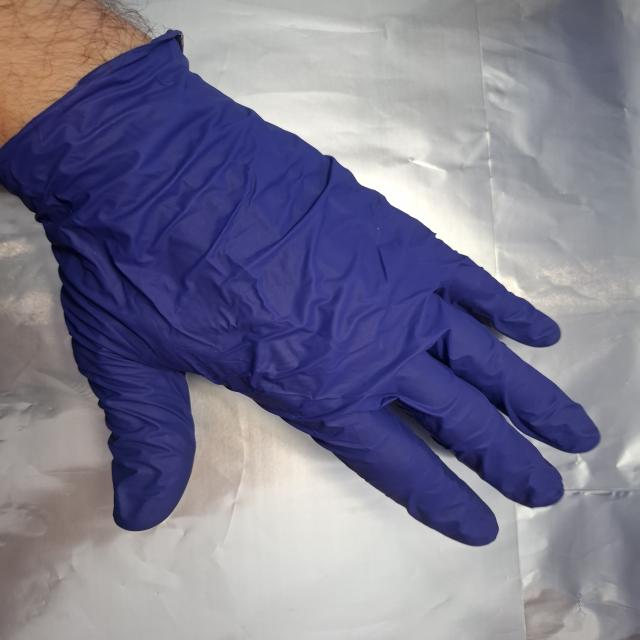glove_on: (14, 36, 607, 550)
